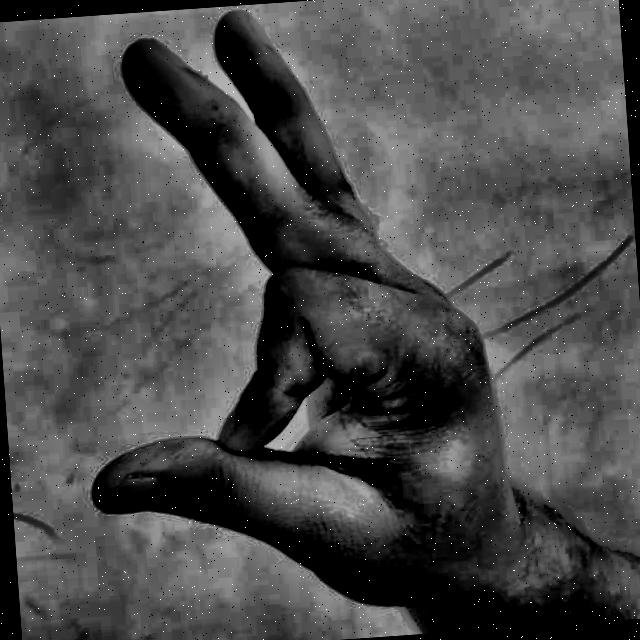Uo: (11, 0, 562, 639)
